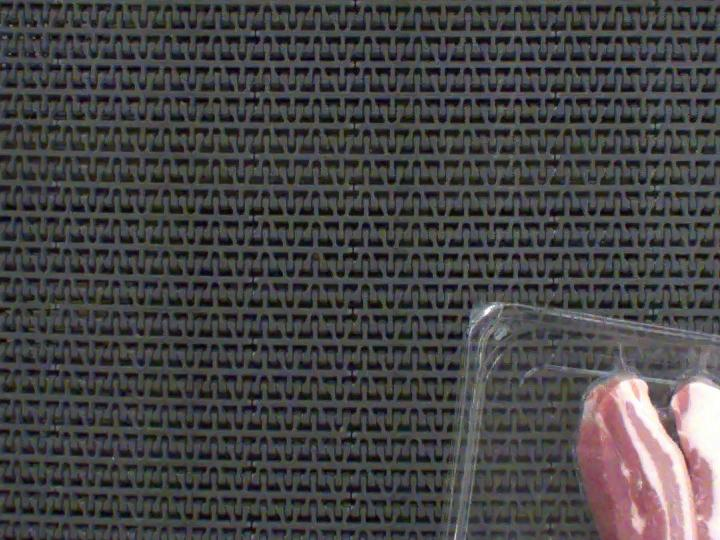packaging-error: (662, 328, 720, 391), (591, 329, 643, 378)
unsealed: (582, 332, 720, 462)
